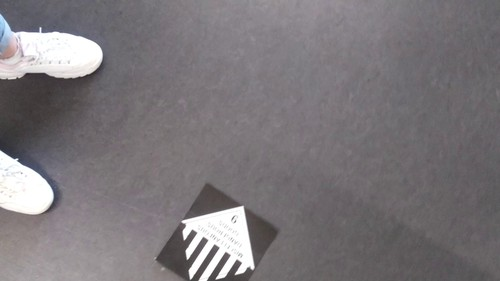misgoods: (176, 209, 262, 280)
